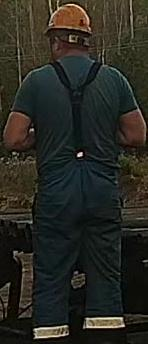helmet: (42, 3, 92, 36)
